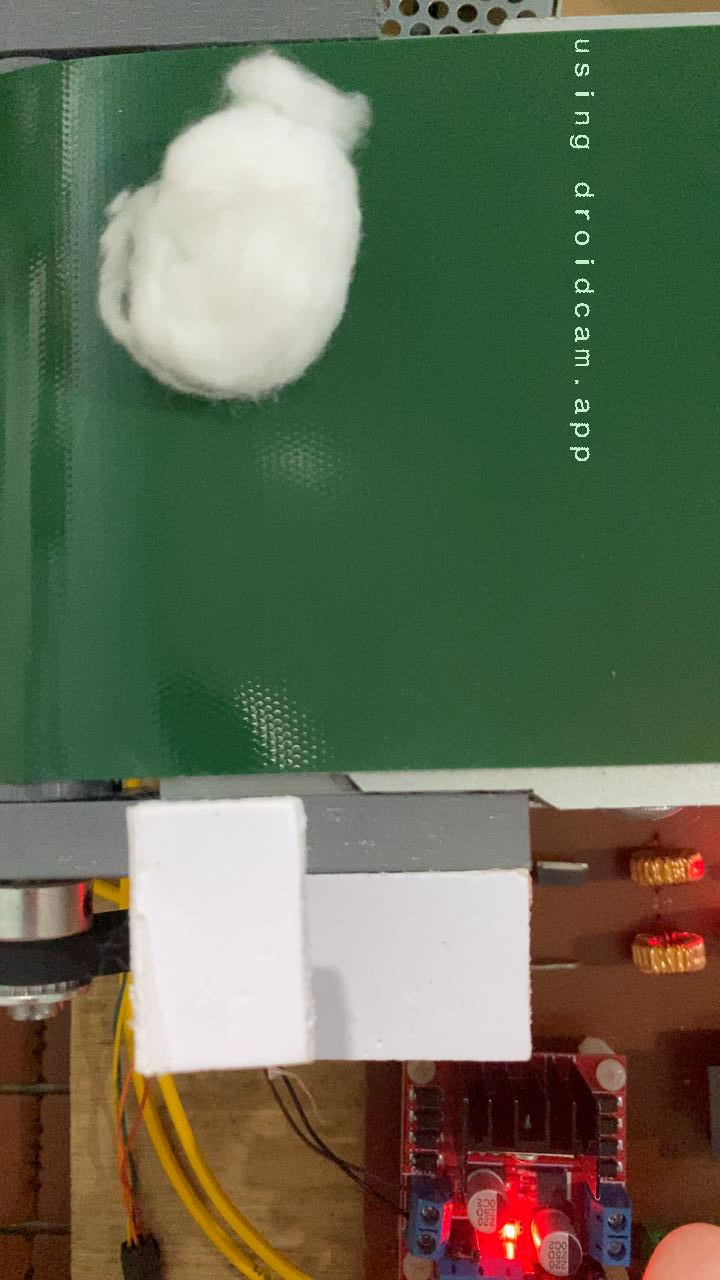cotton: (0, 33, 419, 405)
